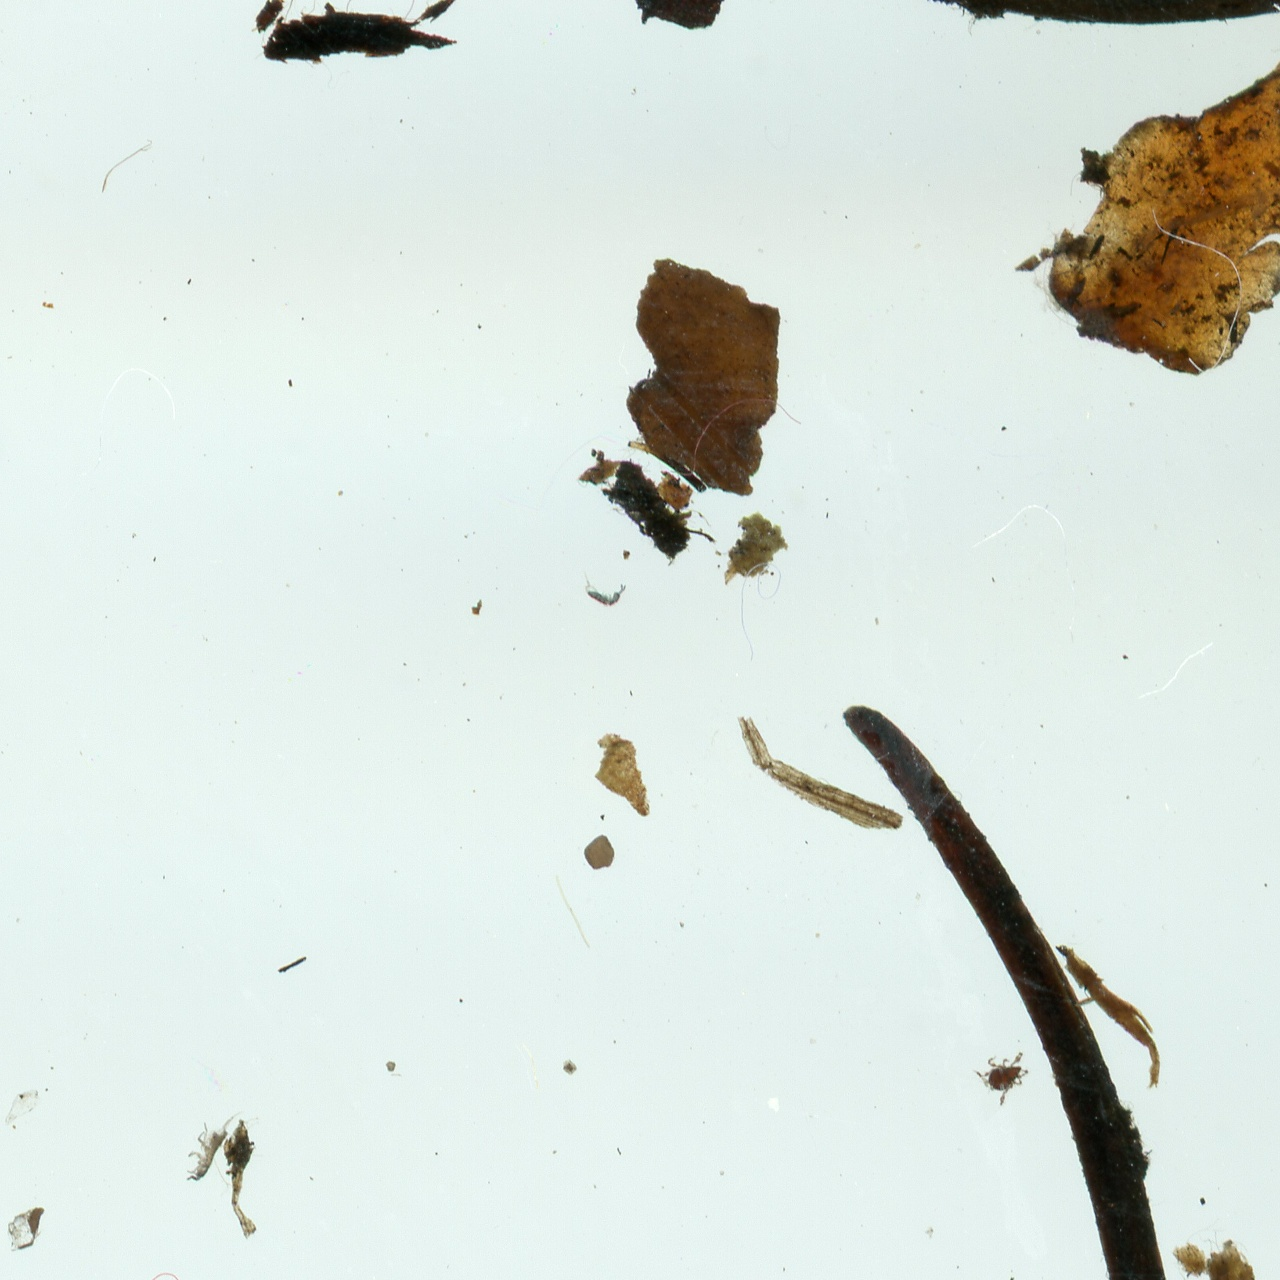arthropod: (171, 1093, 251, 1194), (967, 1035, 1042, 1110), (572, 563, 632, 615)
